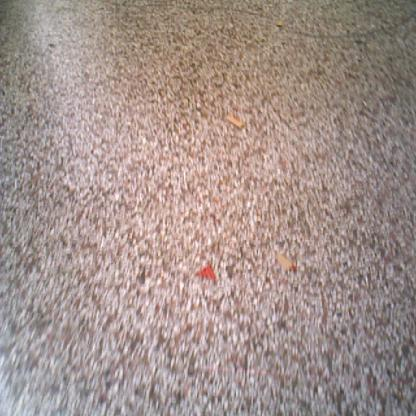dirty: (193, 262, 218, 284), (274, 251, 295, 274), (224, 113, 245, 130), (215, 22, 225, 32), (274, 18, 283, 28)
